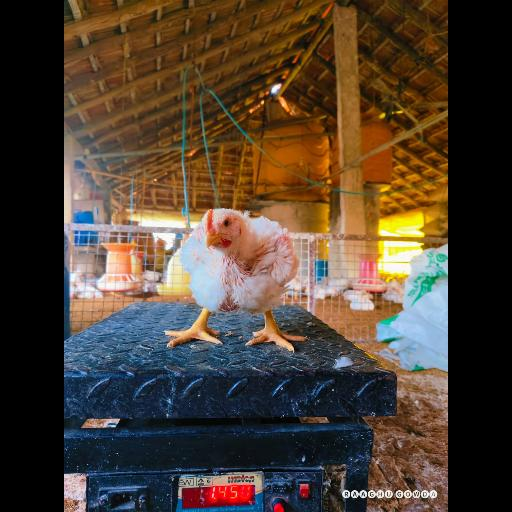chick: (163, 204, 302, 350)
